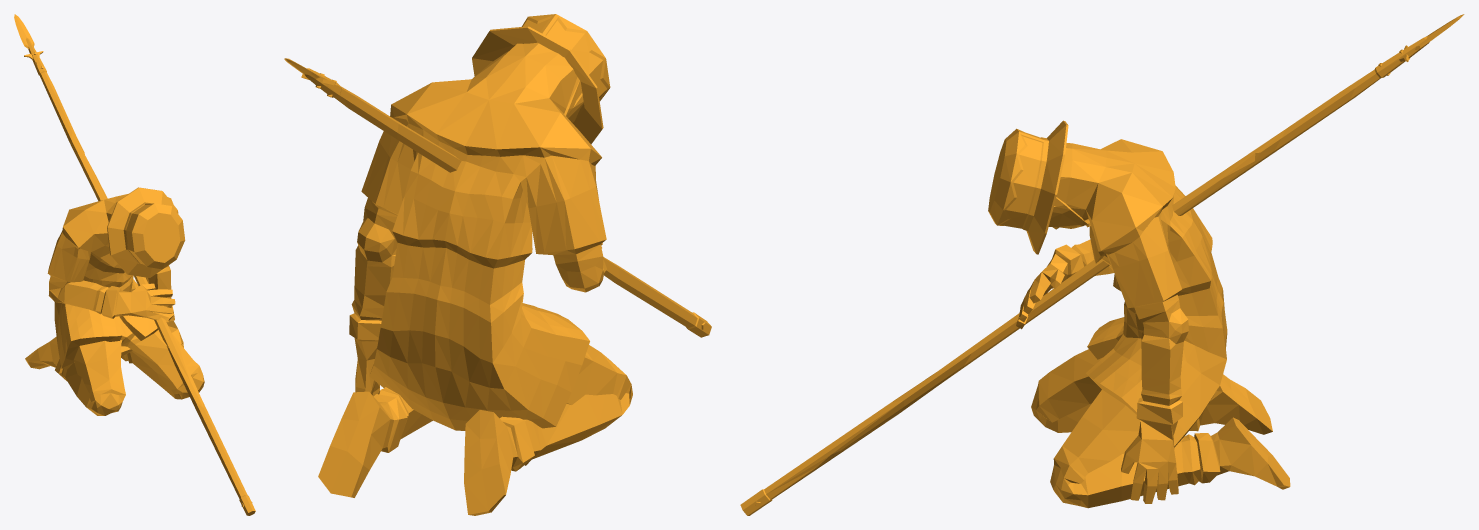
File: corpse-human-soldier-b-fantasy.fbx
3 views of the same model, side by side, from view 1: azimuth 30°, elevation 25°; view 2: azimuth 150°, elevation 25°; view 3: azimuth 270°, elevation 25° (orthographic). The views are drawn at different scales.
Parts seen in each view (by area): view 1: corpse-human-soldier-b-body-medieval, corpse-human-soldier-b-weapon-medieval; view 2: corpse-human-soldier-b-body-medieval, corpse-human-soldier-b-weapon-medieval; view 3: corpse-human-soldier-b-body-medieval, corpse-human-soldier-b-weapon-medieval.
Part boxes in pixels (x1,y1,x2,y2): corpse-human-soldier-b-body-medieval: (25,187,204,415); corpse-human-soldier-b-weapon-medieval: (14,14,255,515); corpse-human-soldier-b-body-medieval: (318,14,632,515); corpse-human-soldier-b-weapon-medieval: (284,58,711,337); corpse-human-soldier-b-body-medieval: (988,120,1290,508); corpse-human-soldier-b-weapon-medieval: (740,14,1464,515).
Size of the model in its own units: 0.6301 by 1.46 by 1.91.
